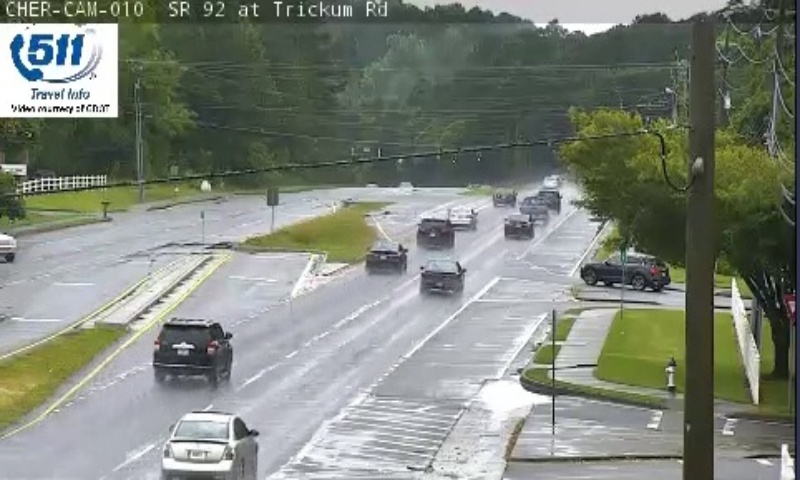car: (160, 413, 260, 480), (152, 319, 232, 377), (421, 261, 464, 294), (365, 241, 404, 270), (418, 218, 454, 247), (504, 214, 531, 238), (446, 207, 474, 230), (517, 196, 546, 218)
